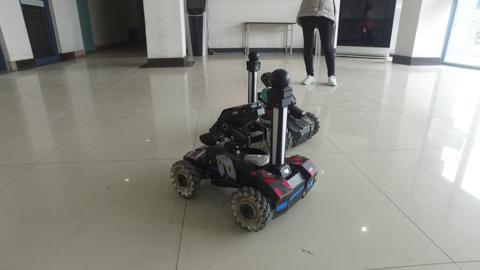chariot: (169, 68, 319, 234)
